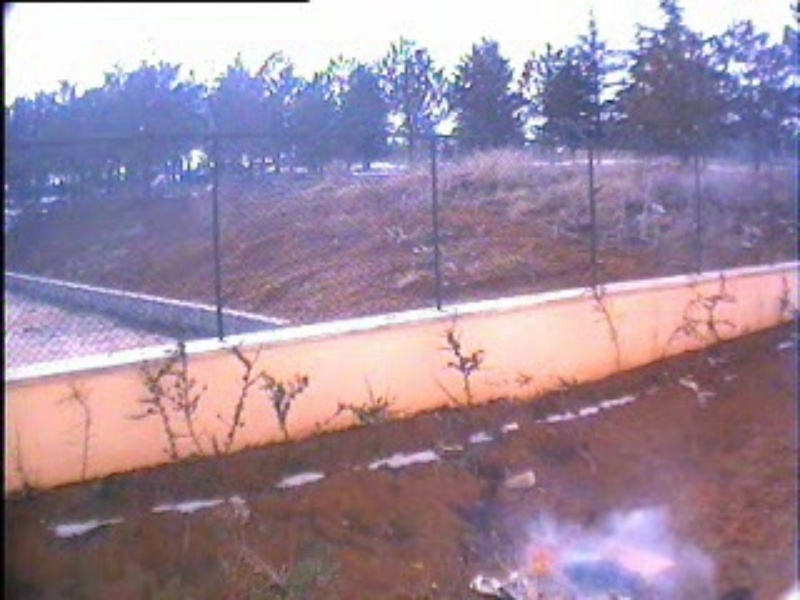smoke: (519, 514, 704, 597)
